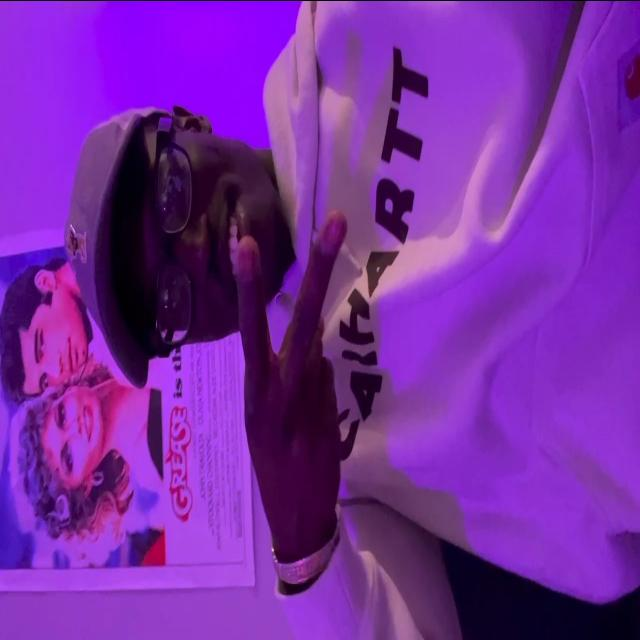Scissors: (232, 204, 351, 538)
